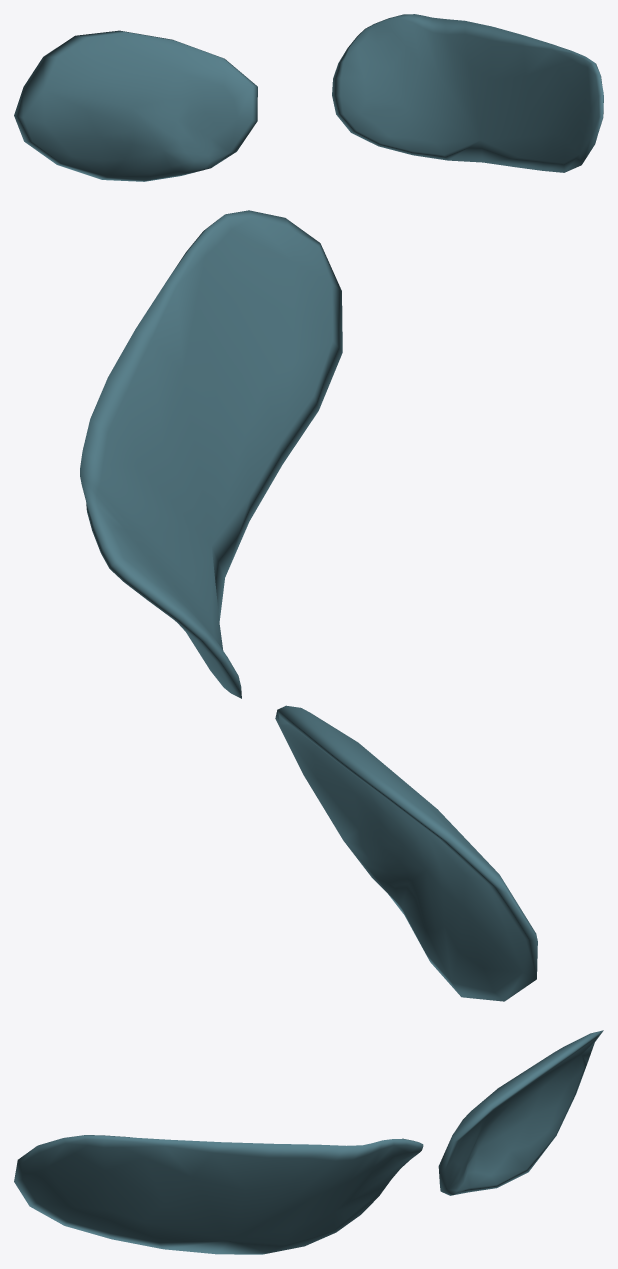
Rendered from Semimembranosus_on_posterior_surf._of_med._condyle.r_Generated_.glb.
The picture shows the model from 3 angles, top to bottom: view 1: azimuth 30°, elevation 25°; view 2: azimuth 150°, elevation 25°; view 3: azimuth 270°, elevation 25°; orthographic projection. The views are drawn at different scales.
Parts seen in each view (by area): view 1: Semimembranosus_on_posterior_surf._of_med._condyle.r_Generat; view 2: Semimembranosus_on_posterior_surf._of_med._condyle.r_Generat; view 3: Semimembranosus_on_posterior_surf._of_med._condyle.r_Generat.
Boxes of the visible parts, bbox=[...] form: Semimembranosus_on_posterior_surf._of_med._condyle.r_Generat: bbox=[14, 14, 603, 181]; Semimembranosus_on_posterior_surf._of_med._condyle.r_Generat: bbox=[80, 210, 537, 1001]; Semimembranosus_on_posterior_surf._of_med._condyle.r_Generat: bbox=[14, 1030, 603, 1254].
Size of the model in its own units: 0.0227 by 0.0106 by 0.0264.
